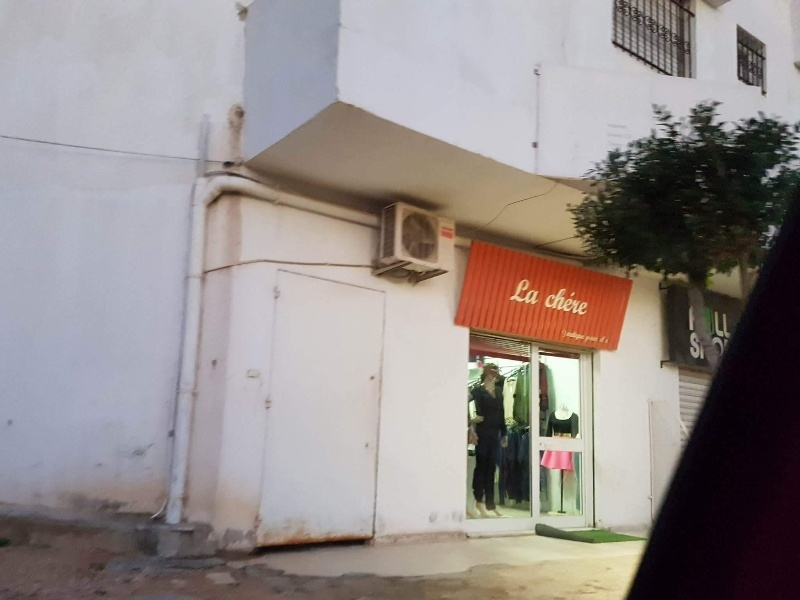text: (577, 285, 593, 316), (561, 285, 576, 316), (529, 277, 544, 306), (690, 333, 704, 360), (515, 277, 528, 306), (721, 309, 733, 339), (549, 285, 560, 316), (563, 328, 576, 343), (593, 334, 608, 347), (714, 309, 720, 339), (577, 328, 586, 343), (586, 334, 592, 347), (442, 229, 448, 241), (449, 229, 454, 241), (442, 225, 448, 233), (449, 225, 455, 233), (609, 334, 611, 347)
